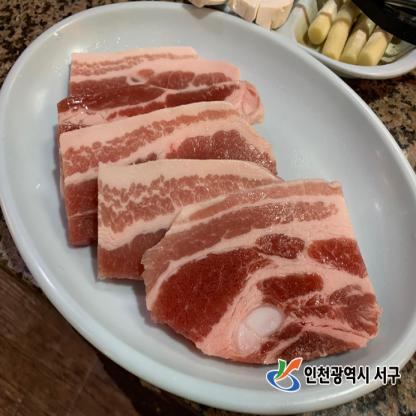pork: (56, 42, 391, 364)
